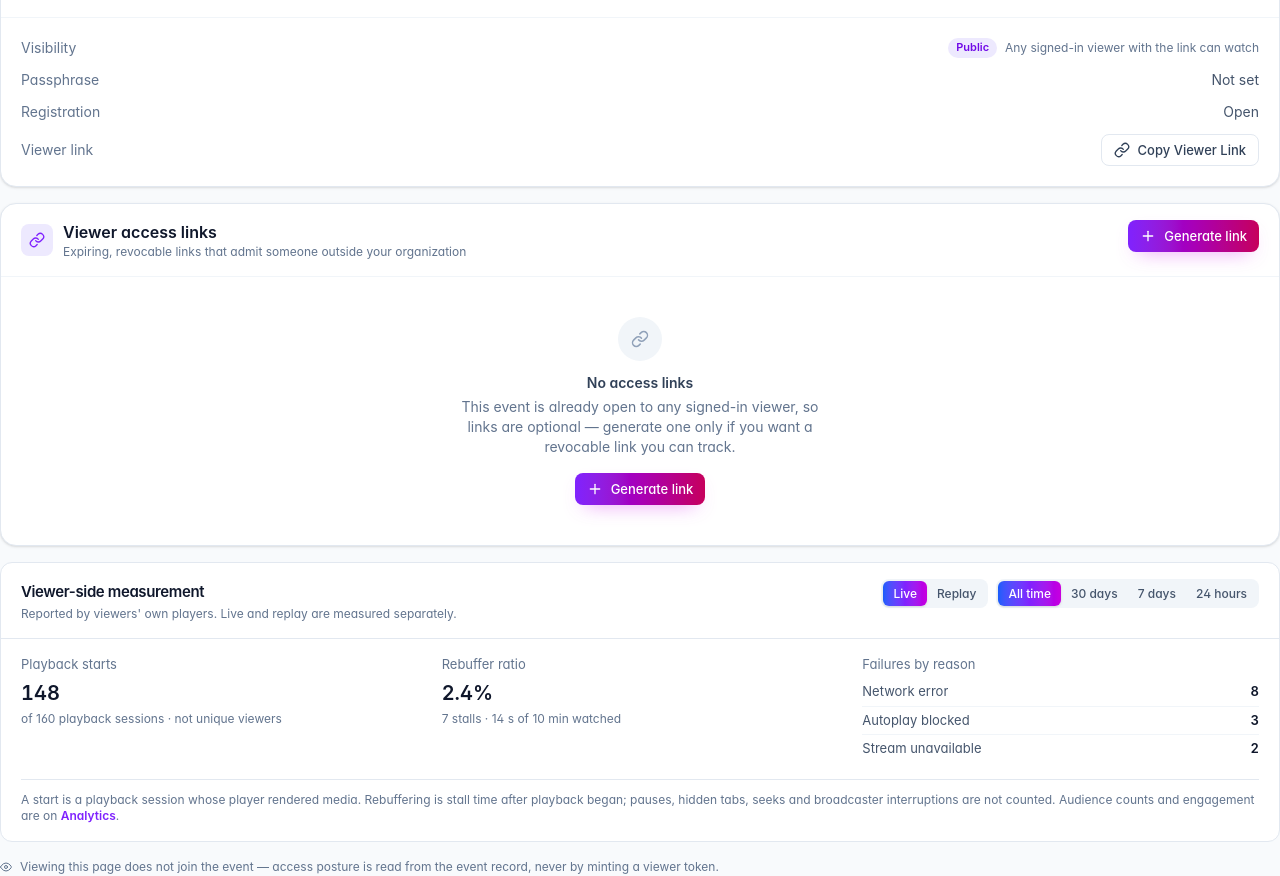
Test case: viewer-side measurement › asks the server again for another window, and for another event
The width and height of the screenshot is (1280, 876).
(page scrolled)
Check: the text "148" is shown, box x1=21 y1=681 x2=60 y2=705
Click the button "24 hours".
click(1221, 594)  # box x1=1186 y1=581 x2=1257 y2=606
(page scrolled)
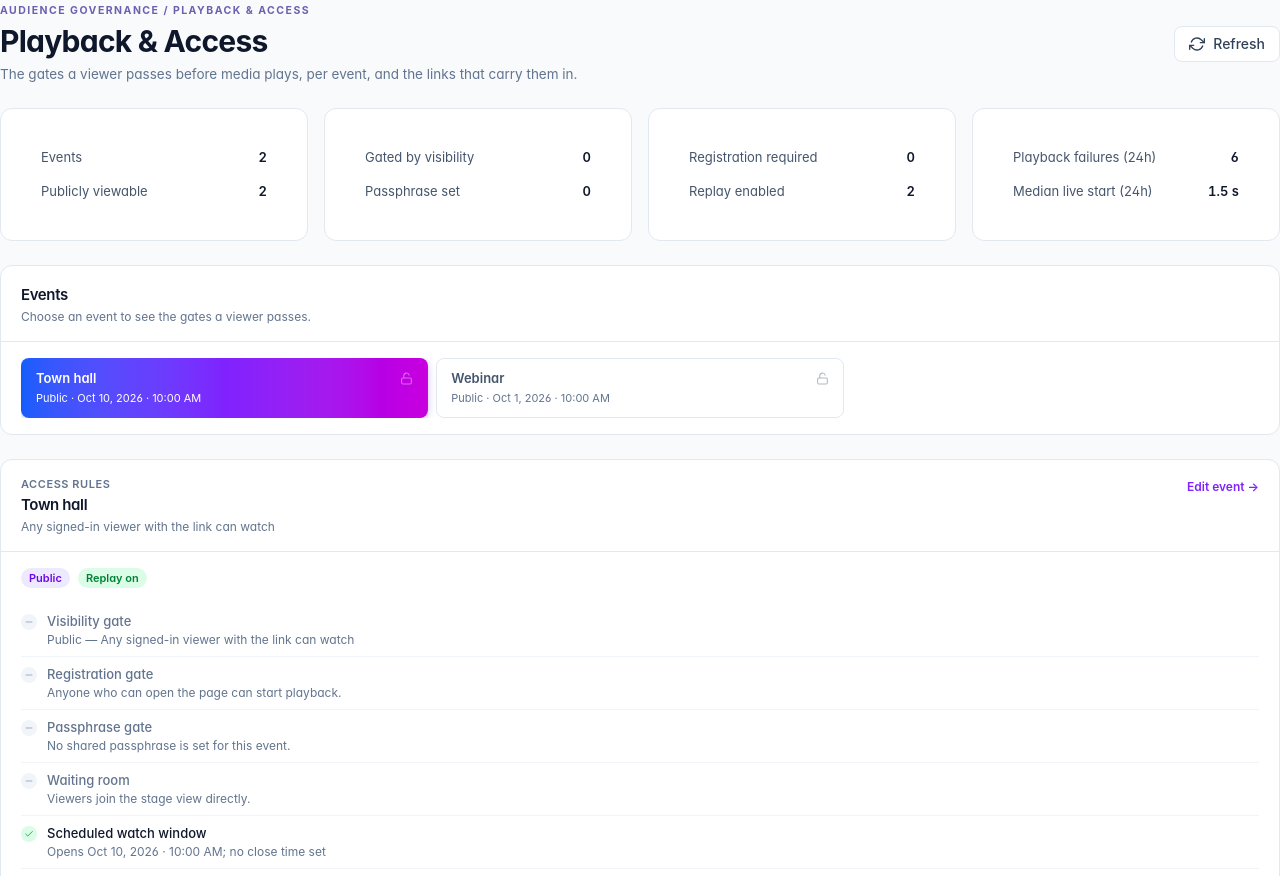
Click the option "Webinar Public · Oct 1, 2026 · 10:00 AM".
click(478, 378)  # box x1=436 y1=358 x2=844 y2=418
(page scrolled)
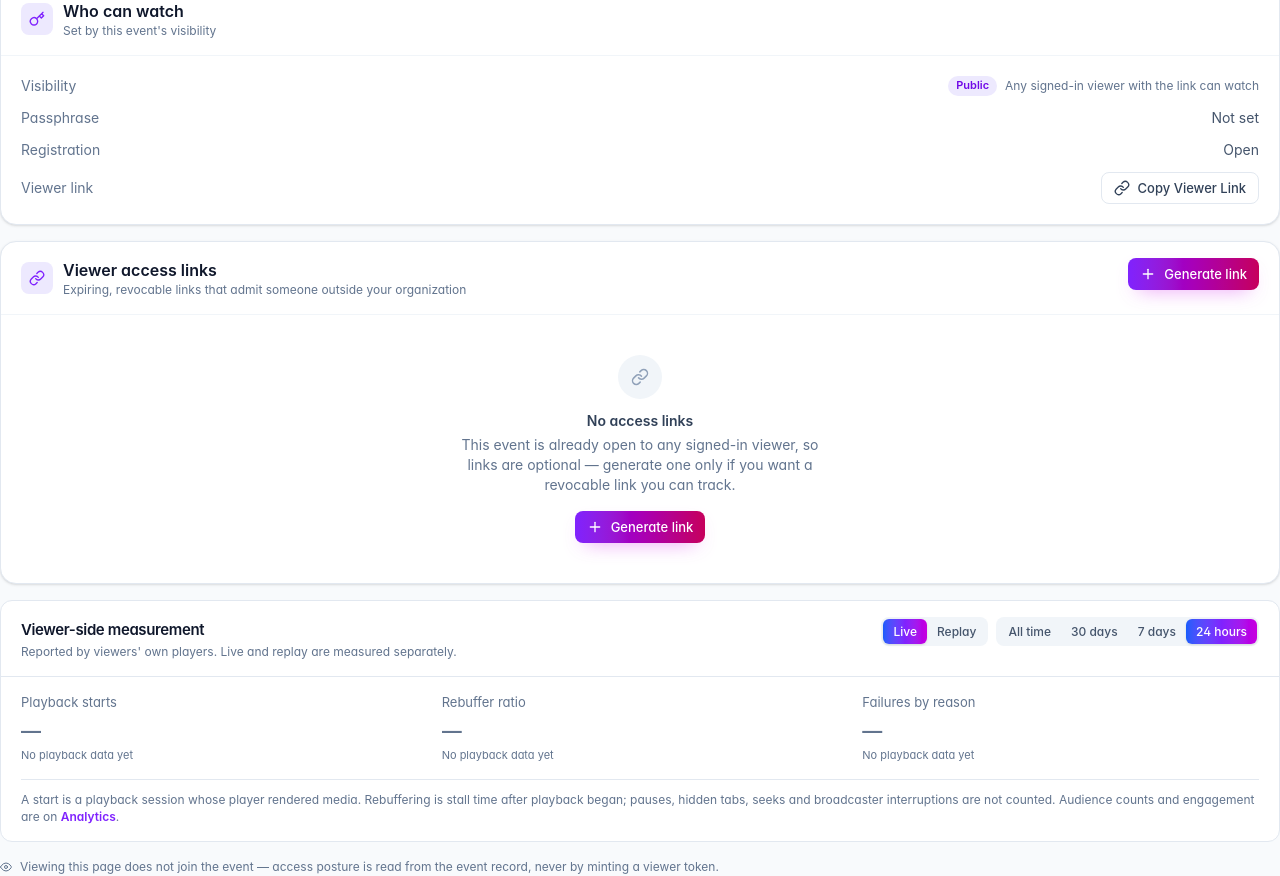
Check: the text "148" is not shown
Check: the text "No playback data yet" below "Failures by reason" is shown, box x1=862 y1=748 x2=974 y2=762
